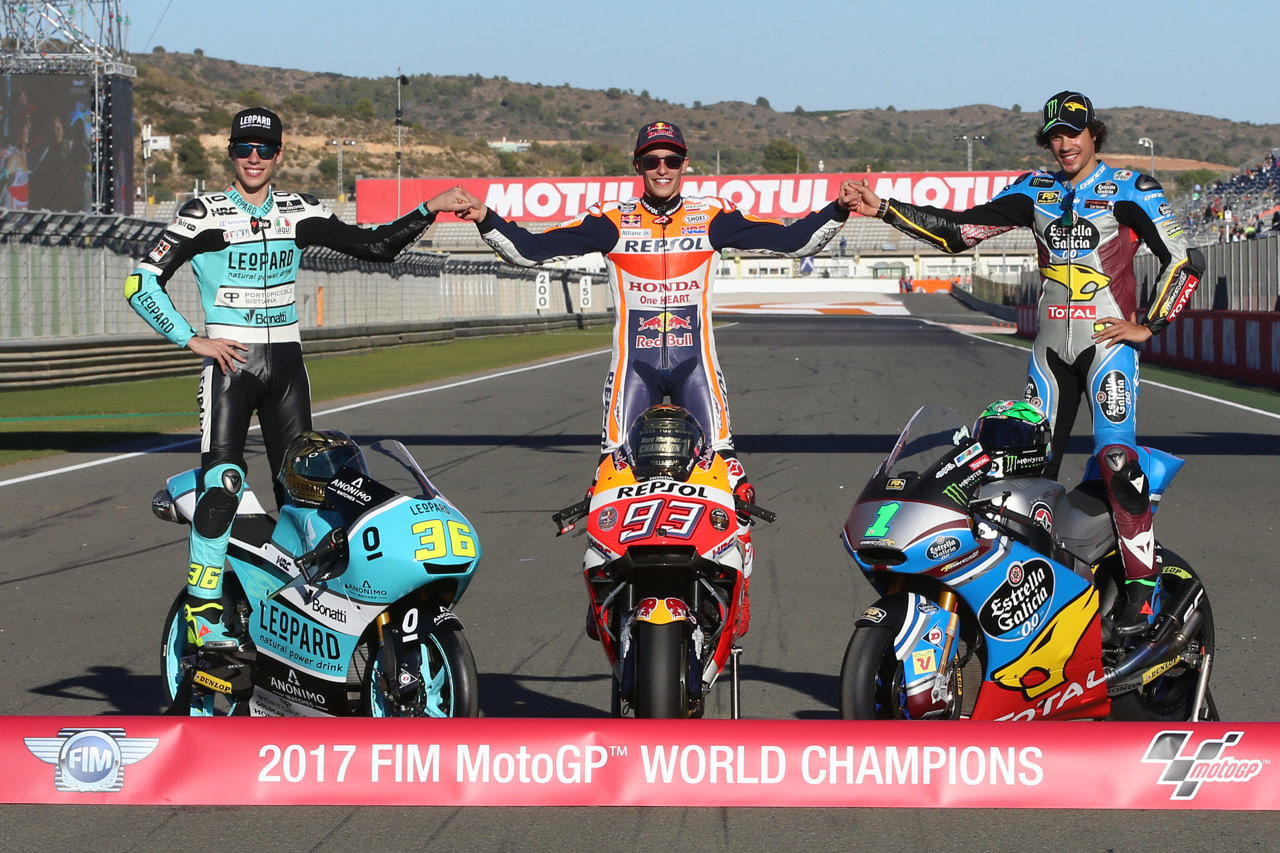helmet: (277, 422, 369, 501), (967, 396, 1051, 480)
